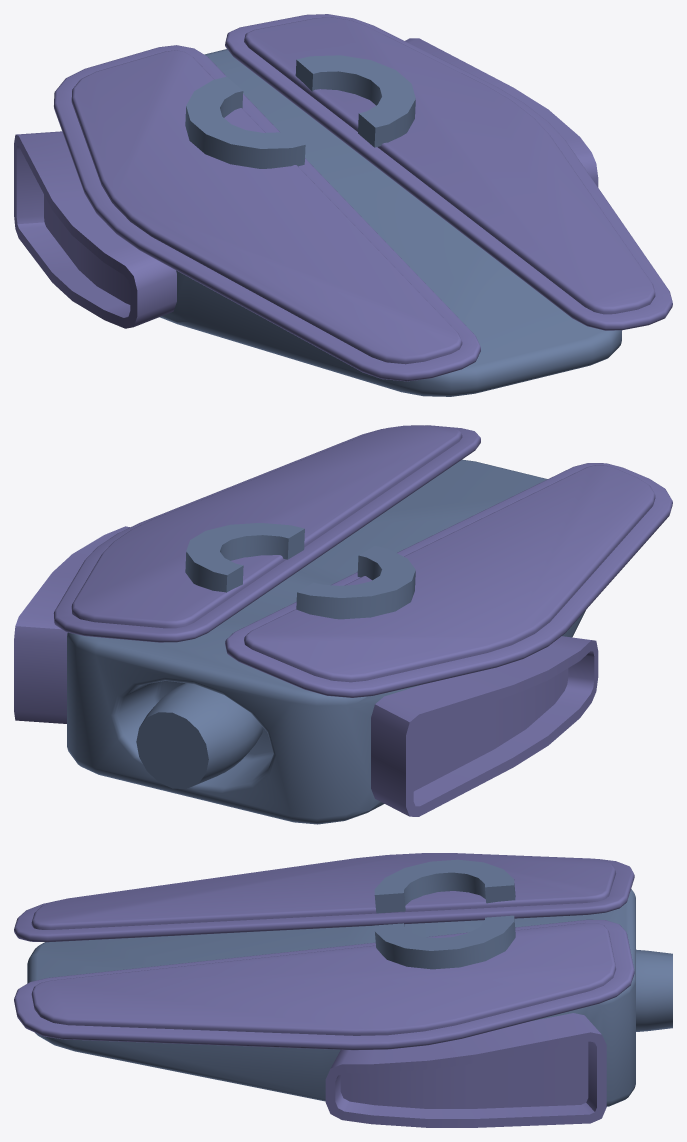
Rendered from CBody.fbx.
3 renders of one model, top to bottom at view 1: azimuth 30°, elevation 25°; view 2: azimuth 150°, elevation 25°; view 3: azimuth 270°, elevation 25°, orthographic. The views are drawn at different scales.
Parts seen in each view (by area): view 1: CBody; view 2: CBody; view 3: CBody.
Boxes of the visible parts, left/top/right/bottom form: CBody: left=14, top=14, right=672, bottom=396; CBody: left=14, top=425, right=672, bottom=824; CBody: left=14, top=853, right=672, bottom=1127.
Size of the model in its own units: 444 by 150 by 598.
